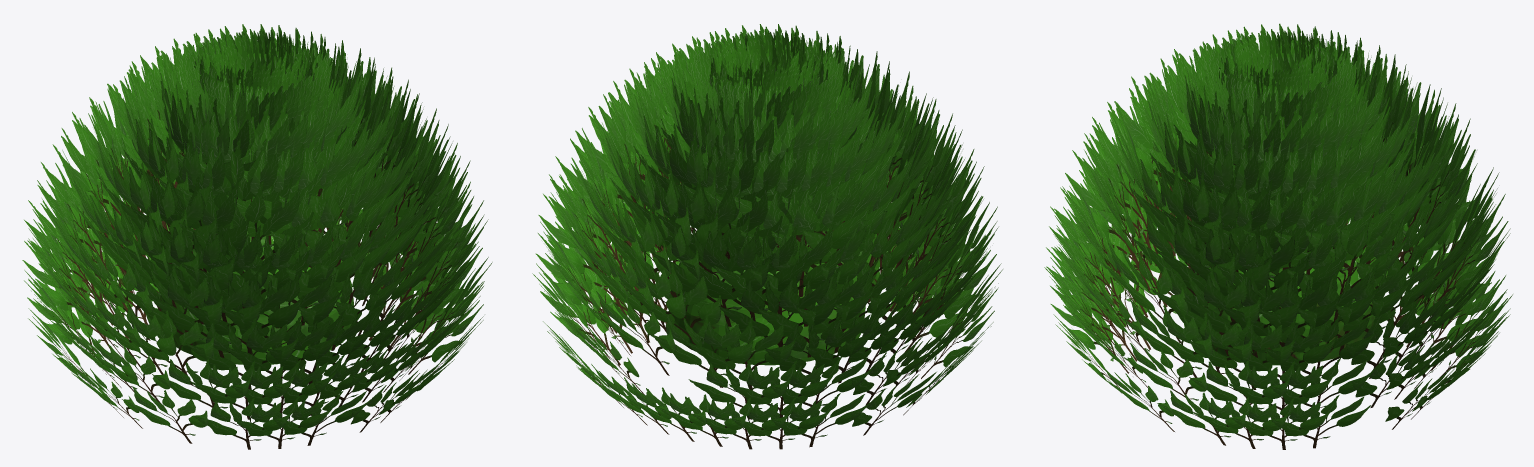
File: SmallBush.fbx
3 views of the same model, side by side, from view 1: azimuth 30°, elevation 25°; view 2: azimuth 150°, elevation 25°; view 3: azimuth 270°, elevation 25° (orthographic).
Parts seen in each view (by area): view 1: SmallBush_LOD0; view 2: SmallBush_LOD0; view 3: SmallBush_LOD0.
Part boxes in pixels (left/top/right/bottom): SmallBush_LOD0: left=22, top=24, right=492, bottom=449; SmallBush_LOD0: left=532, top=24, right=1002, bottom=449; SmallBush_LOD0: left=1044, top=23, right=1512, bottom=449.
Size of what is drawn, in the model's own units: 246 by 188 by 244.
